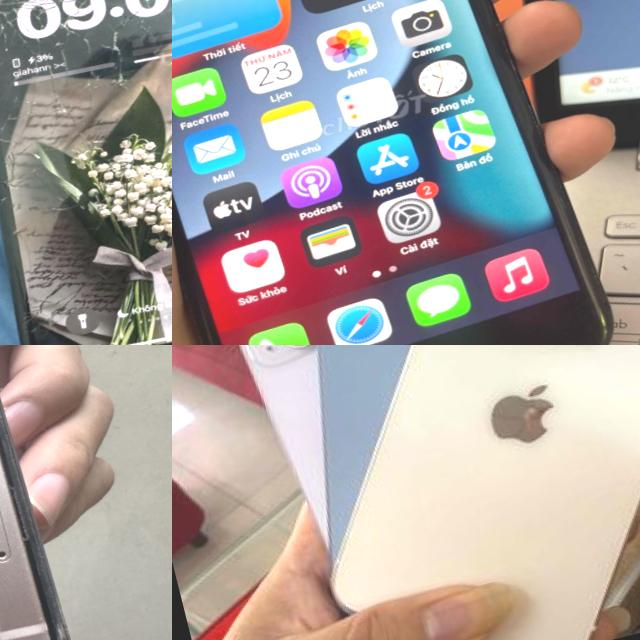physical_damage: (0, 173, 101, 235), (0, 126, 66, 197), (28, 66, 100, 127), (89, 50, 163, 108), (7, 228, 58, 300), (15, 290, 81, 345), (80, 14, 140, 67), (0, 80, 41, 145), (37, 25, 90, 73), (0, 0, 50, 50), (0, 37, 46, 91), (42, 0, 116, 32), (133, 0, 172, 52), (107, 0, 158, 16)
scratch: (0, 606, 87, 640)
